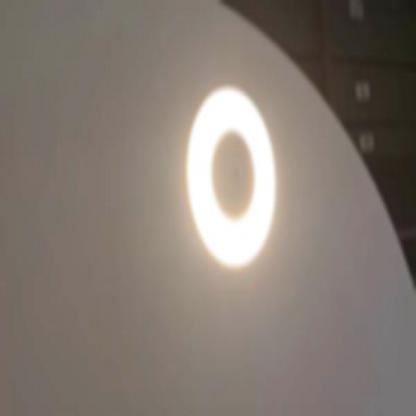light_on: (179, 70, 290, 286)
